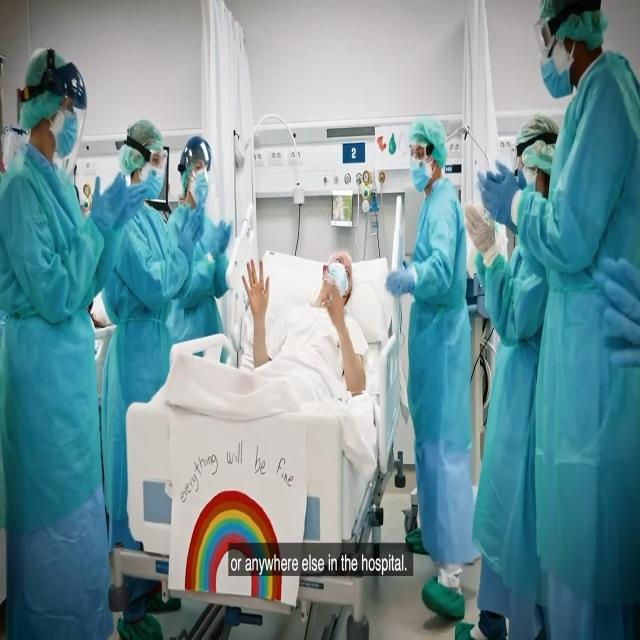Doctor: (518, 0, 640, 596), (0, 44, 103, 640), (109, 90, 175, 409), (172, 115, 235, 345), (488, 94, 554, 209)
Nurse: (399, 114, 479, 620)
Patient: (284, 217, 376, 395)
